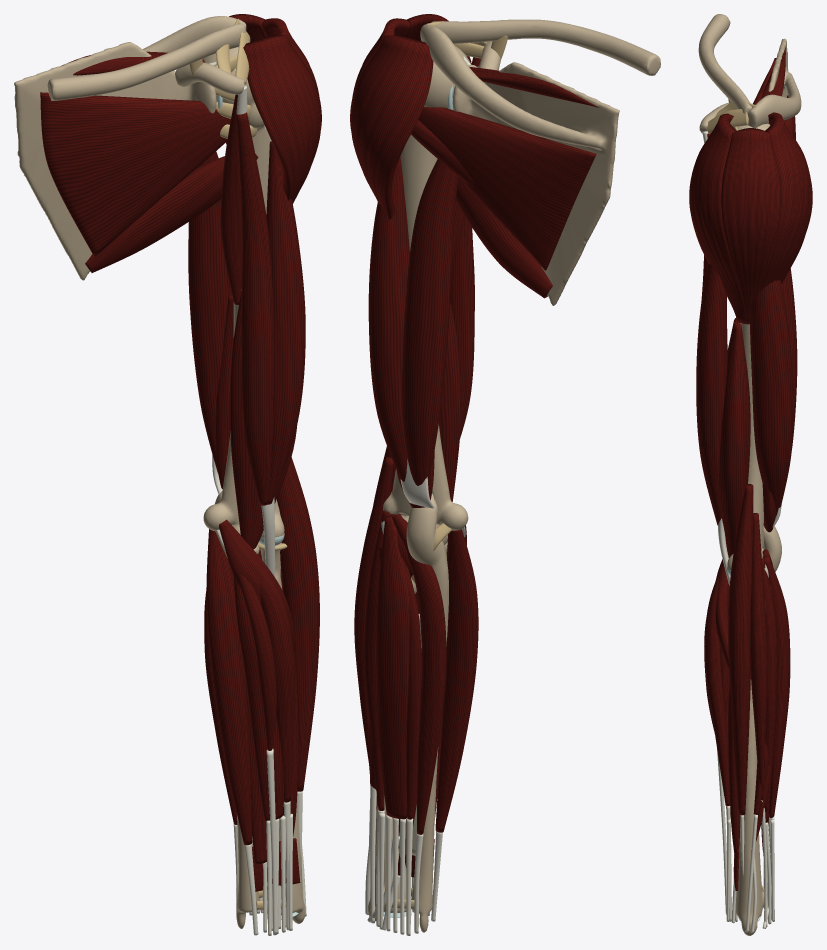
Rendered from detaillierter_arm_und_schulter_3d.glb.
The picture shows the model from 3 angles, left to right: view 1: azimuth 30°, elevation 25°; view 2: azimuth 150°, elevation 25°; view 3: azimuth 270°, elevation 25°; orthographic projection. The views are drawn at different scales.
Visible parts, largest first — view 1: muscle_subscapularis, bone_scapula, muscle_biceps_short_head, muscle_biceps_long_head, muscle_flexor_carpi_ulnaris, muscle_deltoid_anterior, muscle_brachioradialis, muscle_triceps_long_head, muscle_teres_major, bone_clavicle, muscle_flexor_carpi_radialis, muscle_brachialis (+16 smaller); view 2: bone_scapula, muscle_infraspinatus, muscle_triceps_long_head, muscle_deltoid_posterior, muscle_triceps_lateral_head, muscle_extensor_digitorum, muscle_flexor_carpi_ulnaris, muscle_extensor_carpi_ulnaris, bone_humerus, bone_clavicle, bone_ulna, muscle_teres_major (+12 smaller); view 3: muscle_deltoid_middle, muscle_triceps_lateral_head, muscle_brachioradialis, muscle_biceps_long_head, muscle_brachialis, muscle_deltoid_anterior, muscle_deltoid_posterior, muscle_extensor_carpi_radialis_longus, muscle_extensor_digitorum, bone_radius, muscle_flexor_carpi_radialis, bone_scapula (+22 smaller).
Part boxes in pixels (<box>): muscle_subscapularis: <box>40,92,230,256</box>; bone_scapula: <box>14,16,246,280</box>; muscle_biceps_short_head: <box>237,112,273,505</box>; muscle_biceps_long_head: <box>266,141,305,504</box>; muscle_flexor_carpi_ulnaris: <box>206,529,252,845</box>; muscle_deltoid_anterior: <box>243,35,321,203</box>; muscle_brachioradialis: <box>277,457,319,791</box>; muscle_triceps_long_head: <box>188,151,231,473</box>; muscle_teres_major: <box>85,154,258,272</box>; bone_clavicle: <box>47,23,245,100</box>; muscle_flexor_carpi_radialis: <box>258,568,295,802</box>; muscle_brachialis: <box>230,291,297,549</box>; bone_scapula: <box>420,24,619,305</box>; muscle_infraspinatus: <box>418,107,596,270</box>; muscle_triceps_long_head: <box>402,159,458,485</box>; muscle_deltoid_posterior: <box>350,35,433,220</box>; muscle_triceps_lateral_head: <box>368,156,409,481</box>; muscle_extensor_digitorum: <box>376,516,409,819</box>; muscle_flexor_carpi_ulnaris: <box>435,529,478,832</box>; muscle_extensor_carpi_ulnaris: <box>392,514,446,834</box>; bone_humerus: <box>383,46,471,544</box>; bone_clavicle: <box>431,19,660,75</box>; bone_ulna: <box>406,493,448,932</box>; muscle_teres_major: <box>456,178,552,298</box>; muscle_deltoid_middle: <box>721,128,780,324</box>; muscle_triceps_lateral_head: <box>750,279,793,516</box>; muscle_brachioradialis: <box>728,484,753,815</box>; muscle_biceps_long_head: <box>696,263,727,525</box>; muscle_brachialis: <box>719,318,750,557</box>; muscle_deltoid_anterior: <box>689,113,746,324</box>; muscle_deltoid_posterior: <box>761,112,812,290</box>; muscle_extensor_carpi_radialis_longus: <box>750,513,767,799</box>; muscle_extensor_digitorum: <box>763,556,790,817</box>; bone_radius: <box>735,679,764,935</box>; muscle_flexor_carpi_radialis: <box>704,576,729,806</box>; bone_scapula: <box>699,38,801,133</box>.
Size of the model in its own units: 0.1942 by 0.6093 by 0.0841.
8 materials, 3 textured.
